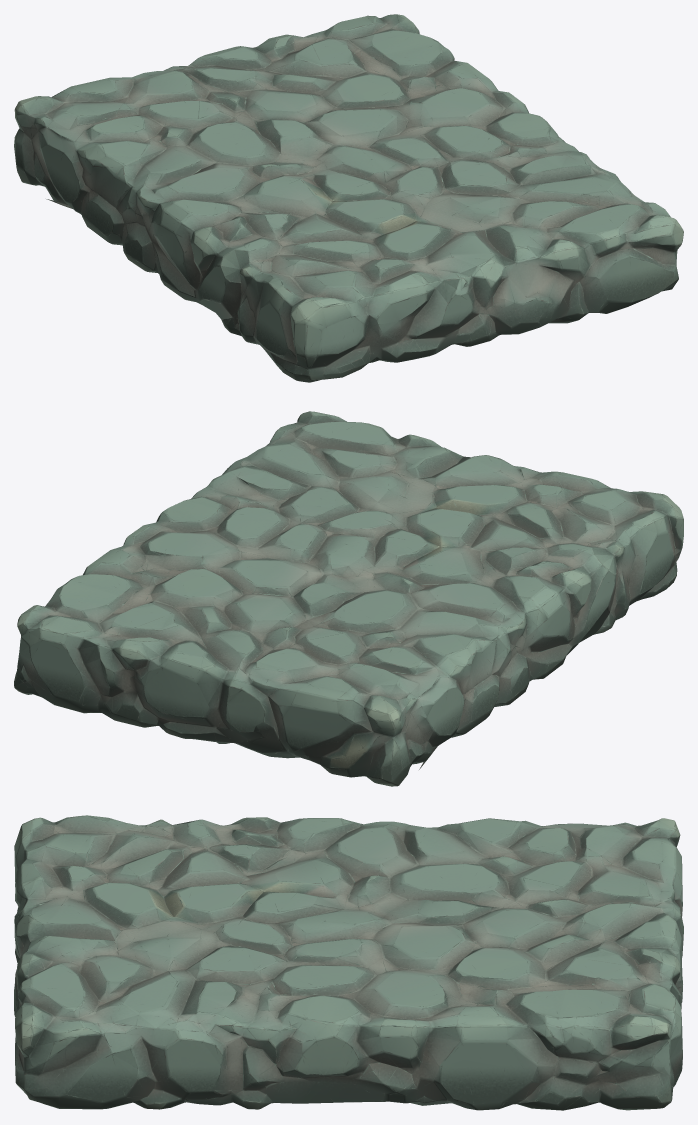
Rendered from Platform 04.fbx.
The picture shows the model from 3 angles, top to bottom: view 1: azimuth 30°, elevation 25°; view 2: azimuth 150°, elevation 25°; view 3: azimuth 270°, elevation 25°; orthographic projection. The views are drawn at different scales.
Visible parts, largest first — view 1: Platform.004; view 2: Platform.004; view 3: Platform.004.
Part boxes in pixels (x1,y1,x2,y2): Platform.004: (14, 14, 683, 382); Platform.004: (14, 411, 683, 786); Platform.004: (14, 815, 683, 1110).
Size of the model in its own units: 632 by 133 by 833.
1 material, 1 textured.
